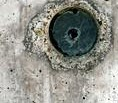Spalling: (21, 1, 114, 71)
